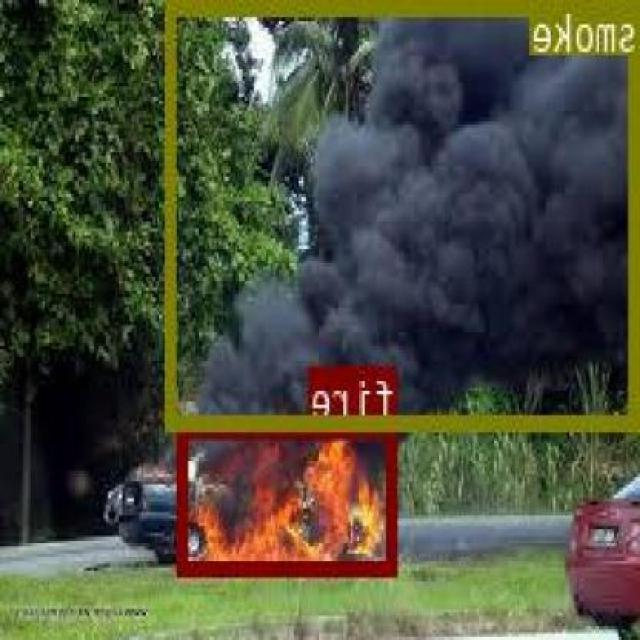Fire: (183, 443, 400, 575)
Smoke: (177, 24, 640, 466)
